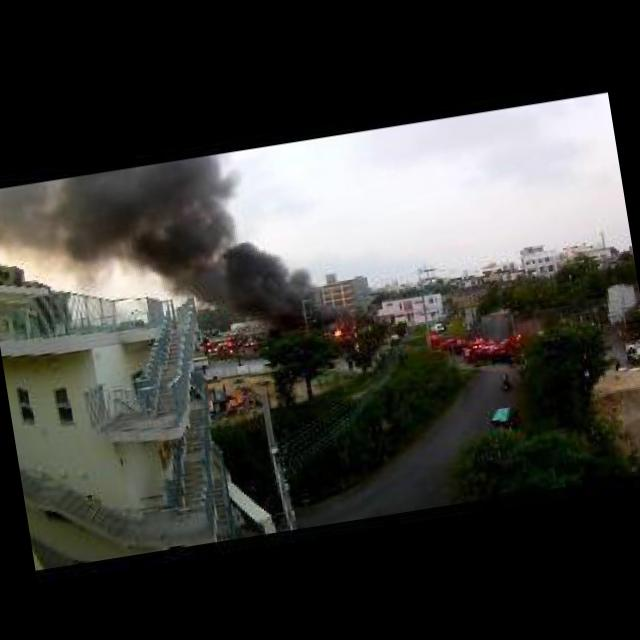fire: (332, 328, 343, 336)
smoke: (0, 142, 324, 373)
